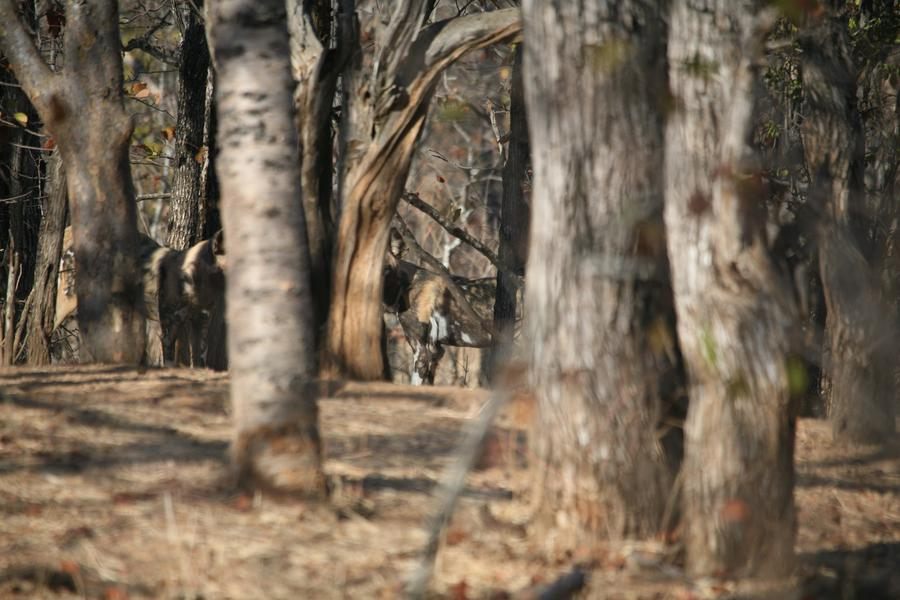wilddog: (386, 246, 486, 361), (142, 230, 217, 354)
